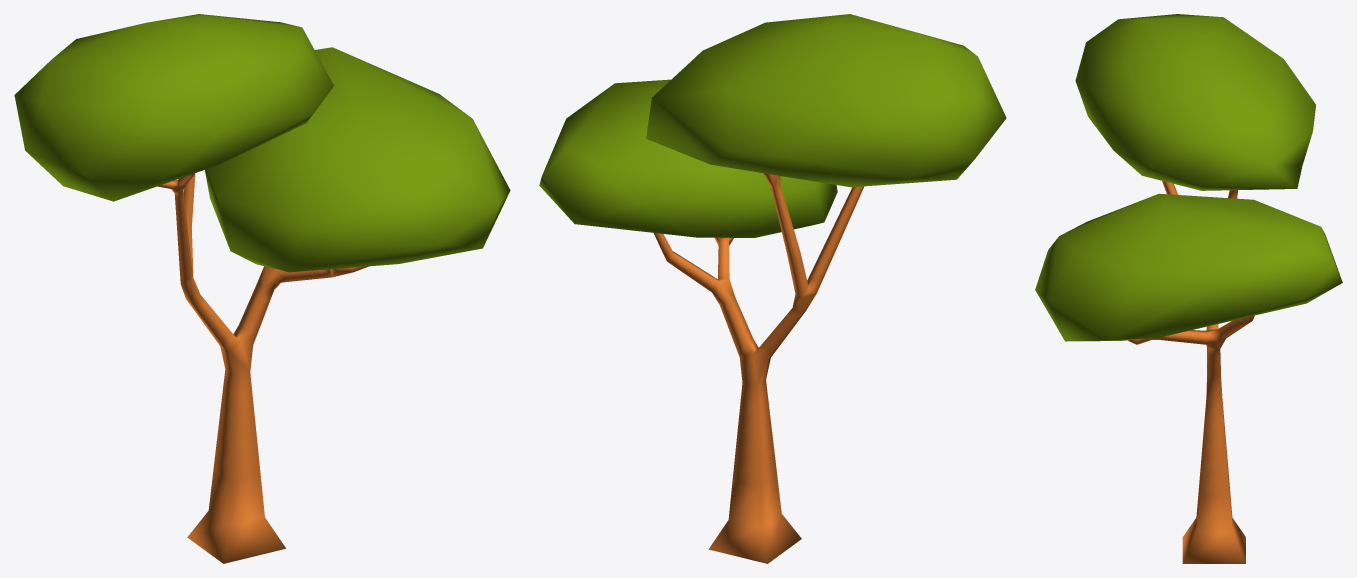
The model's file is LVL1-Tree 2.fbx.
The picture shows the model from 3 angles, left to right: view 1: azimuth 30°, elevation 25°; view 2: azimuth 150°, elevation 25°; view 3: azimuth 270°, elevation 25°; orthographic projection. The views are drawn at different scales.
Parts seen in each view (by area): view 1: Vert.002; view 2: Vert.002; view 3: Vert.002.
Part boxes in pixels (box(x1,y1,x2,y2)): Vert.002: box(14, 14, 510, 563); Vert.002: box(539, 14, 1006, 563); Vert.002: box(1035, 14, 1342, 563).
Bounding box in the file's own units: 1659 × 1992 × 1163.
